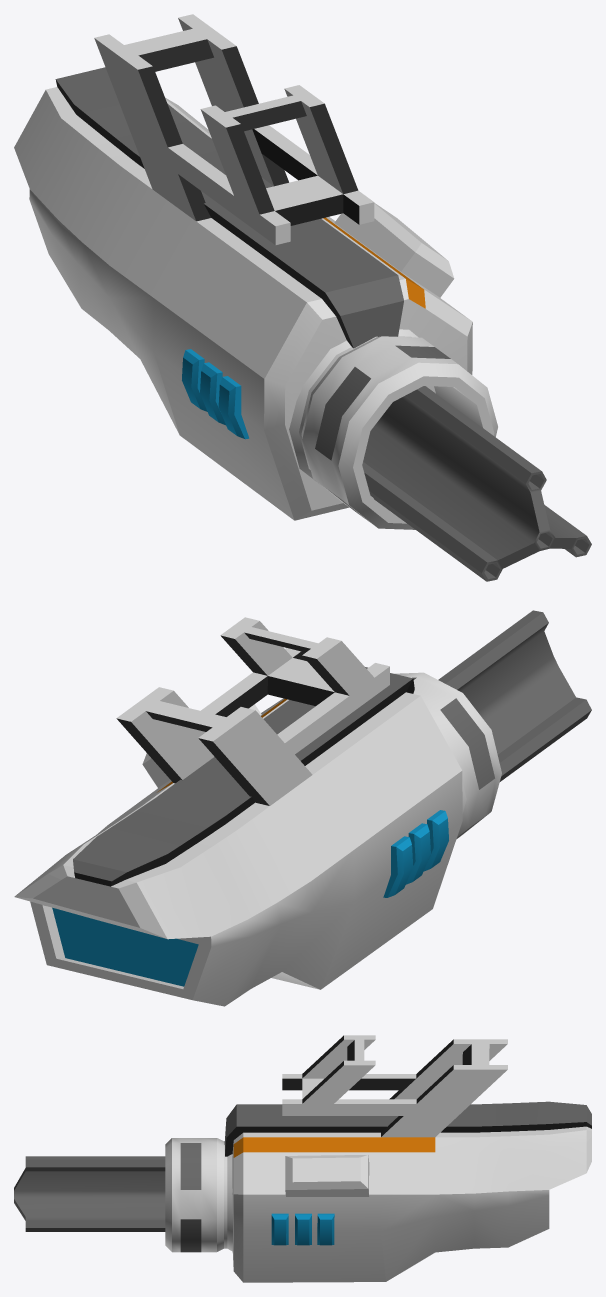
Rendered from player_lautern_weapon_asset.fbx.
3 views of the same model, one above another, from view 1: azimuth 30°, elevation 25°; view 2: azimuth 150°, elevation 25°; view 3: azimuth 270°, elevation 25° (orthographic). The views are drawn at different scales.
Parts seen in each view (by area): view 1: player_lautern_weapon; view 2: player_lautern_weapon; view 3: player_lautern_weapon.
Part boxes in pixels (x1,y1,x2,y2): player_lautern_weapon: [14, 14, 591, 581]; player_lautern_weapon: [14, 610, 591, 1006]; player_lautern_weapon: [14, 1035, 591, 1282].
Size of the model in its own units: 34.23 by 45.46 by 116.
